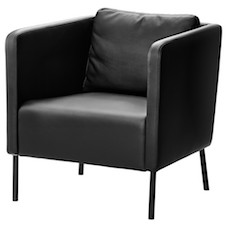chair: (2, 4, 218, 203)
